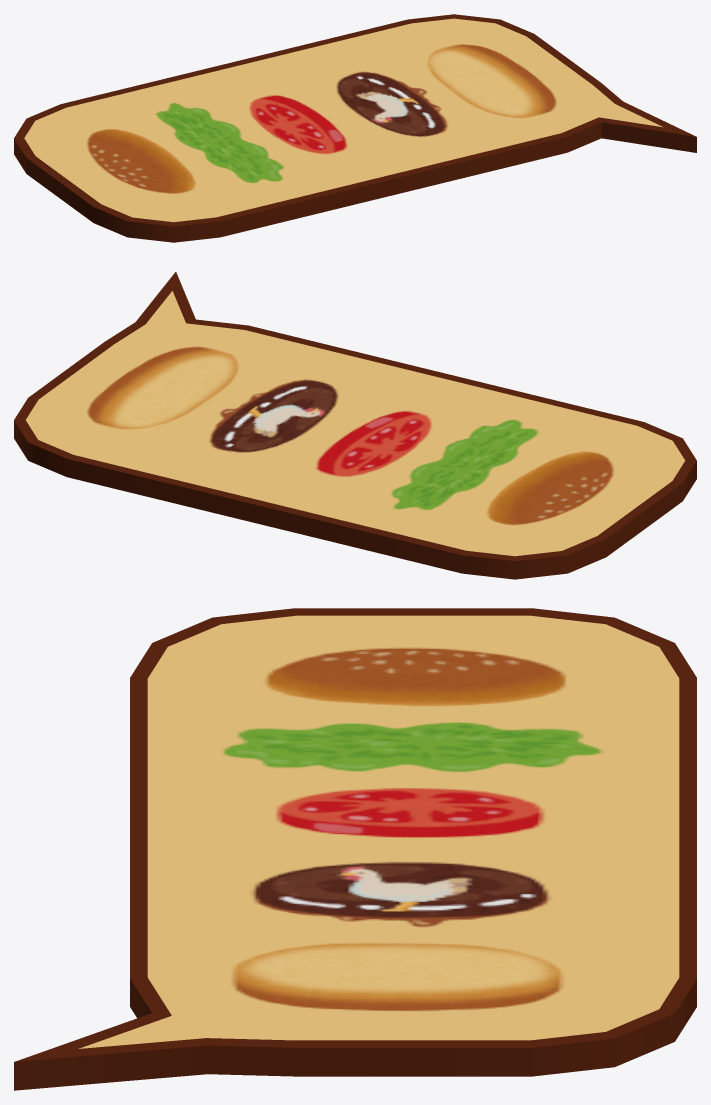
The model's file is Double Topping Orders.fbx.
The picture shows the model from 3 angles, top to bottom: view 1: azimuth 30°, elevation 25°; view 2: azimuth 150°, elevation 25°; view 3: azimuth 270°, elevation 25°; orthographic projection. The views are drawn at different scales.
Parts seen in each view (by area): view 1: double order; view 2: double order; view 3: double order.
Part boxes in pixels (x1=…): double order: x1=14, y1=14, x2=696, y2=242; double order: x1=14, y1=272, x2=696, y2=579; double order: x1=14, y1=608, x2=696, y2=1090.
Size of the model in its own units: 206 by 6.09 by 131.
